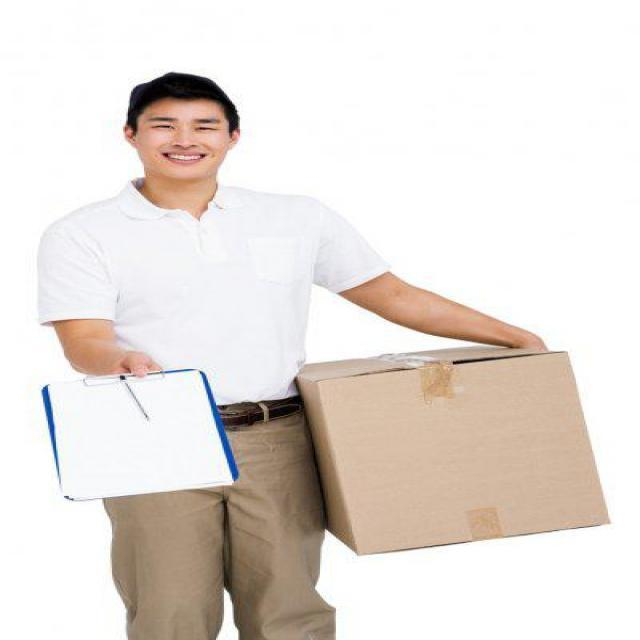box: (290, 341, 610, 559)
